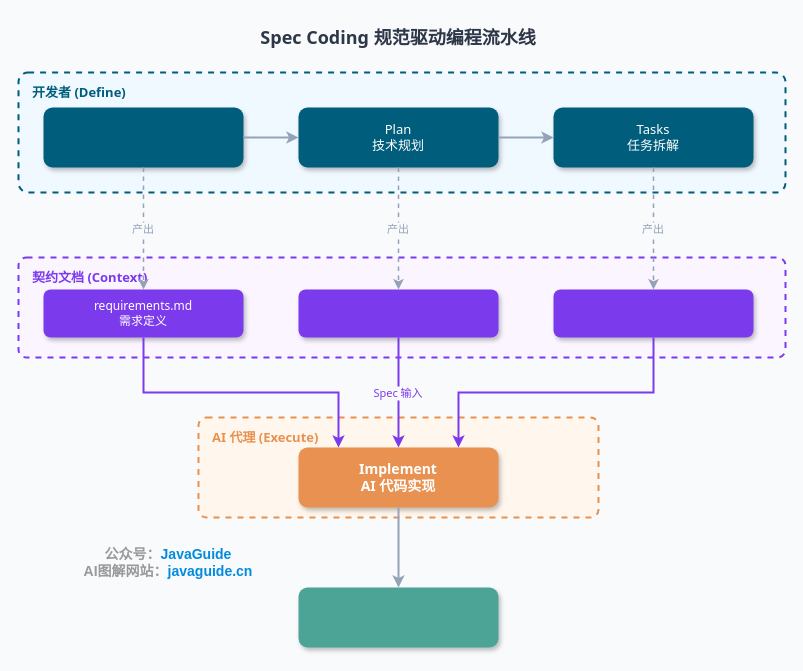
The diagram is 803 pixels wide and 671 high, and some of its shapes have lost their labels. Here are the shapes that lost their labels. From the top down, the centre of each, then its label:
the point at 144,138: Specify 产品定义
the point at 399,314: design.md 技术方案
the point at 654,314: tasks.md 验收标准
the point at 399,618: Verification 验收 & Review
